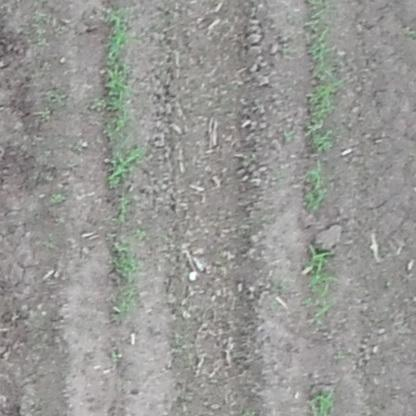corn: (307, 1, 341, 150), (102, 7, 131, 135), (306, 244, 338, 321), (101, 143, 143, 187), (109, 242, 142, 283), (304, 161, 327, 212), (105, 289, 140, 322), (308, 389, 340, 412)
